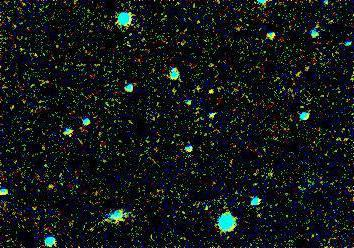star: (195, 76, 225, 106)
